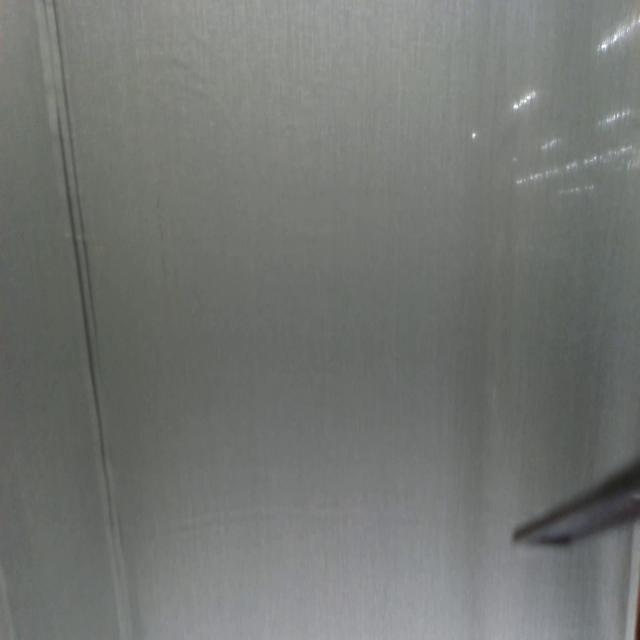crease: (35, 1, 139, 640)
